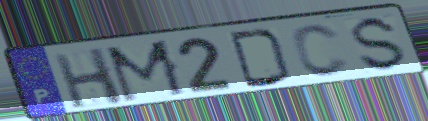2: (180, 35, 239, 97)
C: (289, 22, 354, 79)
D: (226, 28, 295, 90)
H: (50, 45, 127, 110)
M: (102, 37, 191, 106)
S: (350, 14, 410, 74)
